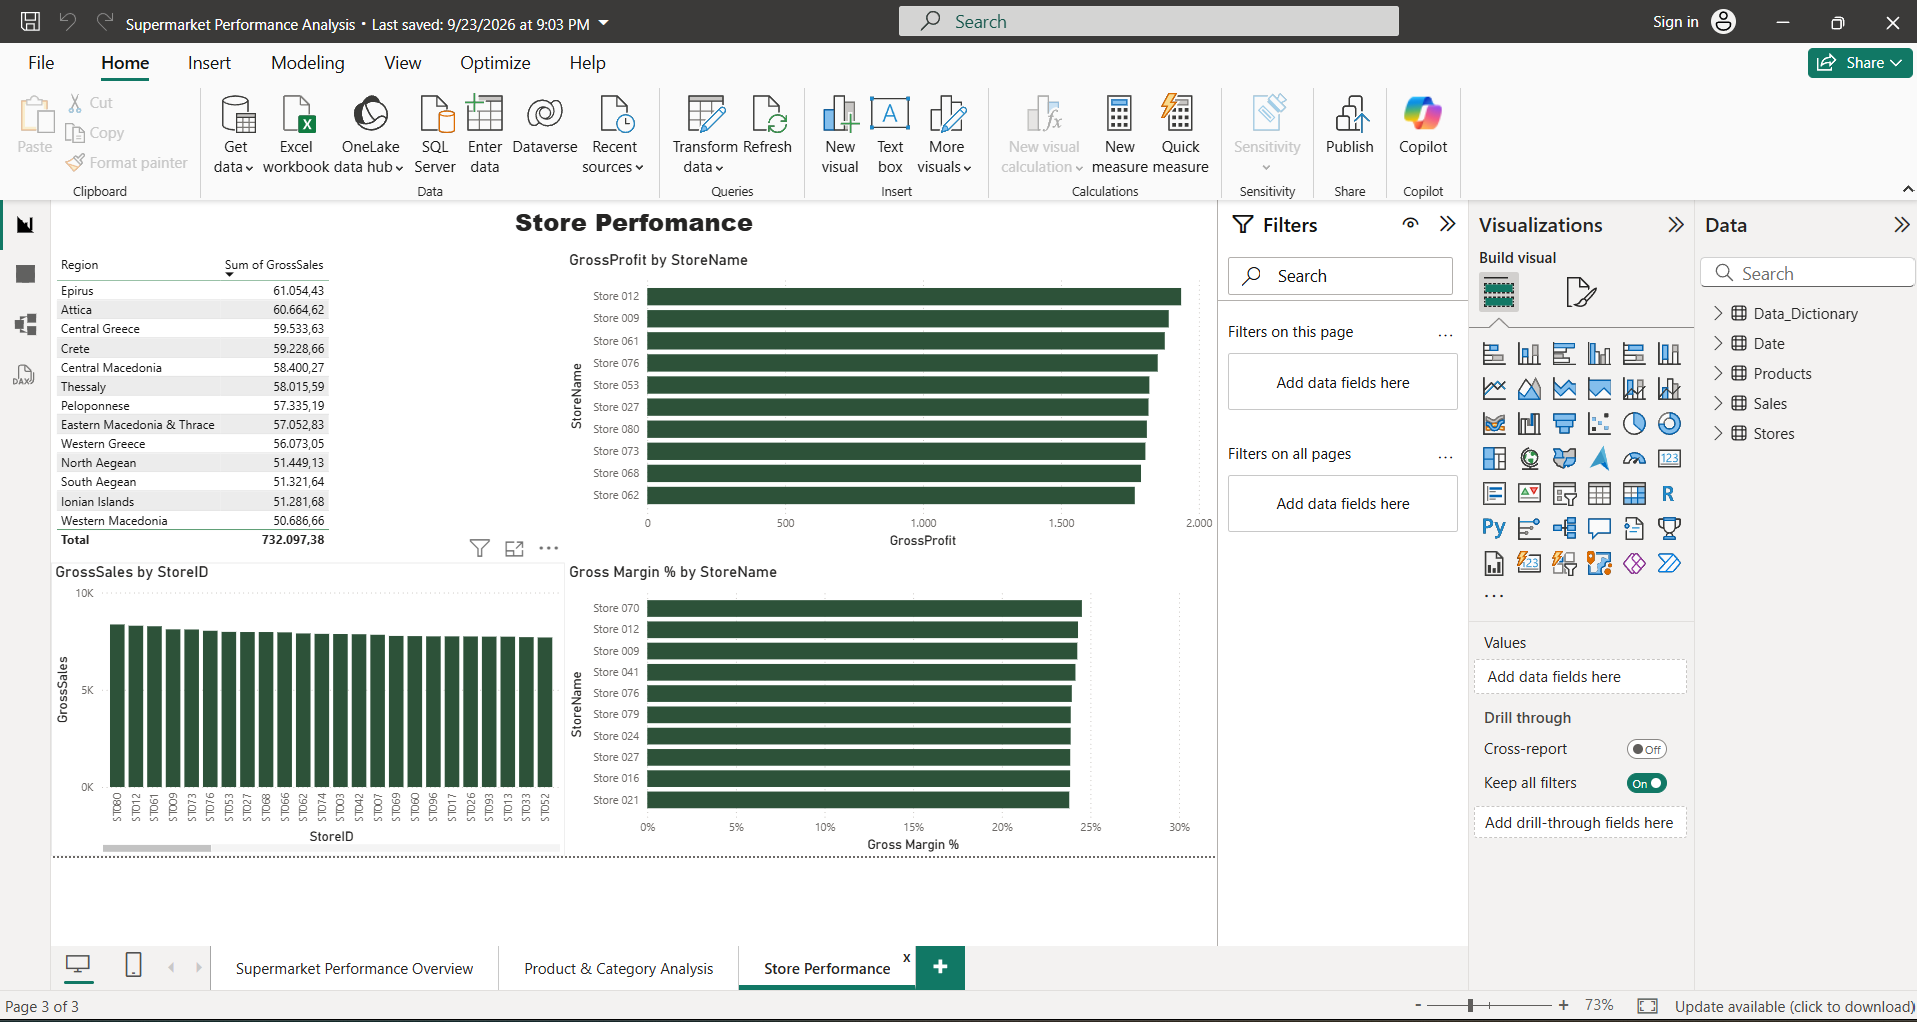

The dashboard page shown, as its layout file describes it:
{"tool":"powerbi","page":{"name":"Store Performance","canvas":[1280,720],"ordinal":2},"visuals":[{"type":"tableEx","fields":{"Values":["Stores.Region","Sum(Sales.GrossSales)"]},"box":[0,54.9,564,332.1],"z":0},{"type":"clusteredColumnChart","fields":{"Y":["Sum(Sales.GrossSales)"],"Category":["Sales.StoreID"]},"box":[0,397.9,564,322.5],"z":1000},{"type":"clusteredBarChart","fields":{"Y":["Sum(Sales.GrossProfit)"],"Category":["Stores.StoreName"]},"box":[564,54.9,716.3,332.1],"z":2000},{"type":"clusteredBarChart","fields":{"Category":["Stores.StoreName"],"Y":["Data_Dictionary.Gross Margin %"]},"box":[564,397.9,691.6,322.5],"z":3000},{"type":"textbox","box":[0,0,1280.3,54.9],"z":4000}]}

Visuals, with their boxes on the page's 1280x720 design canvas (x1, y1, x2, y2). These are canvas units, not pixel positions in the 1917x1022 screenshot, which may show the page scaled, cropped or inside an application window:
tableEx - Stores.Region x Sum(Sales.GrossSales): 0,55,564,387
clusteredColumnChart - Sum(Sales.GrossSales) x Sales.StoreID: 0,398,564,720
clusteredBarChart - Sum(Sales.GrossProfit) x Stores.StoreName: 564,55,1280,387
clusteredBarChart - Stores.StoreName x Data_Dictionary.Gross Margin %: 564,398,1256,720
textbox: 0,0,1280,55
